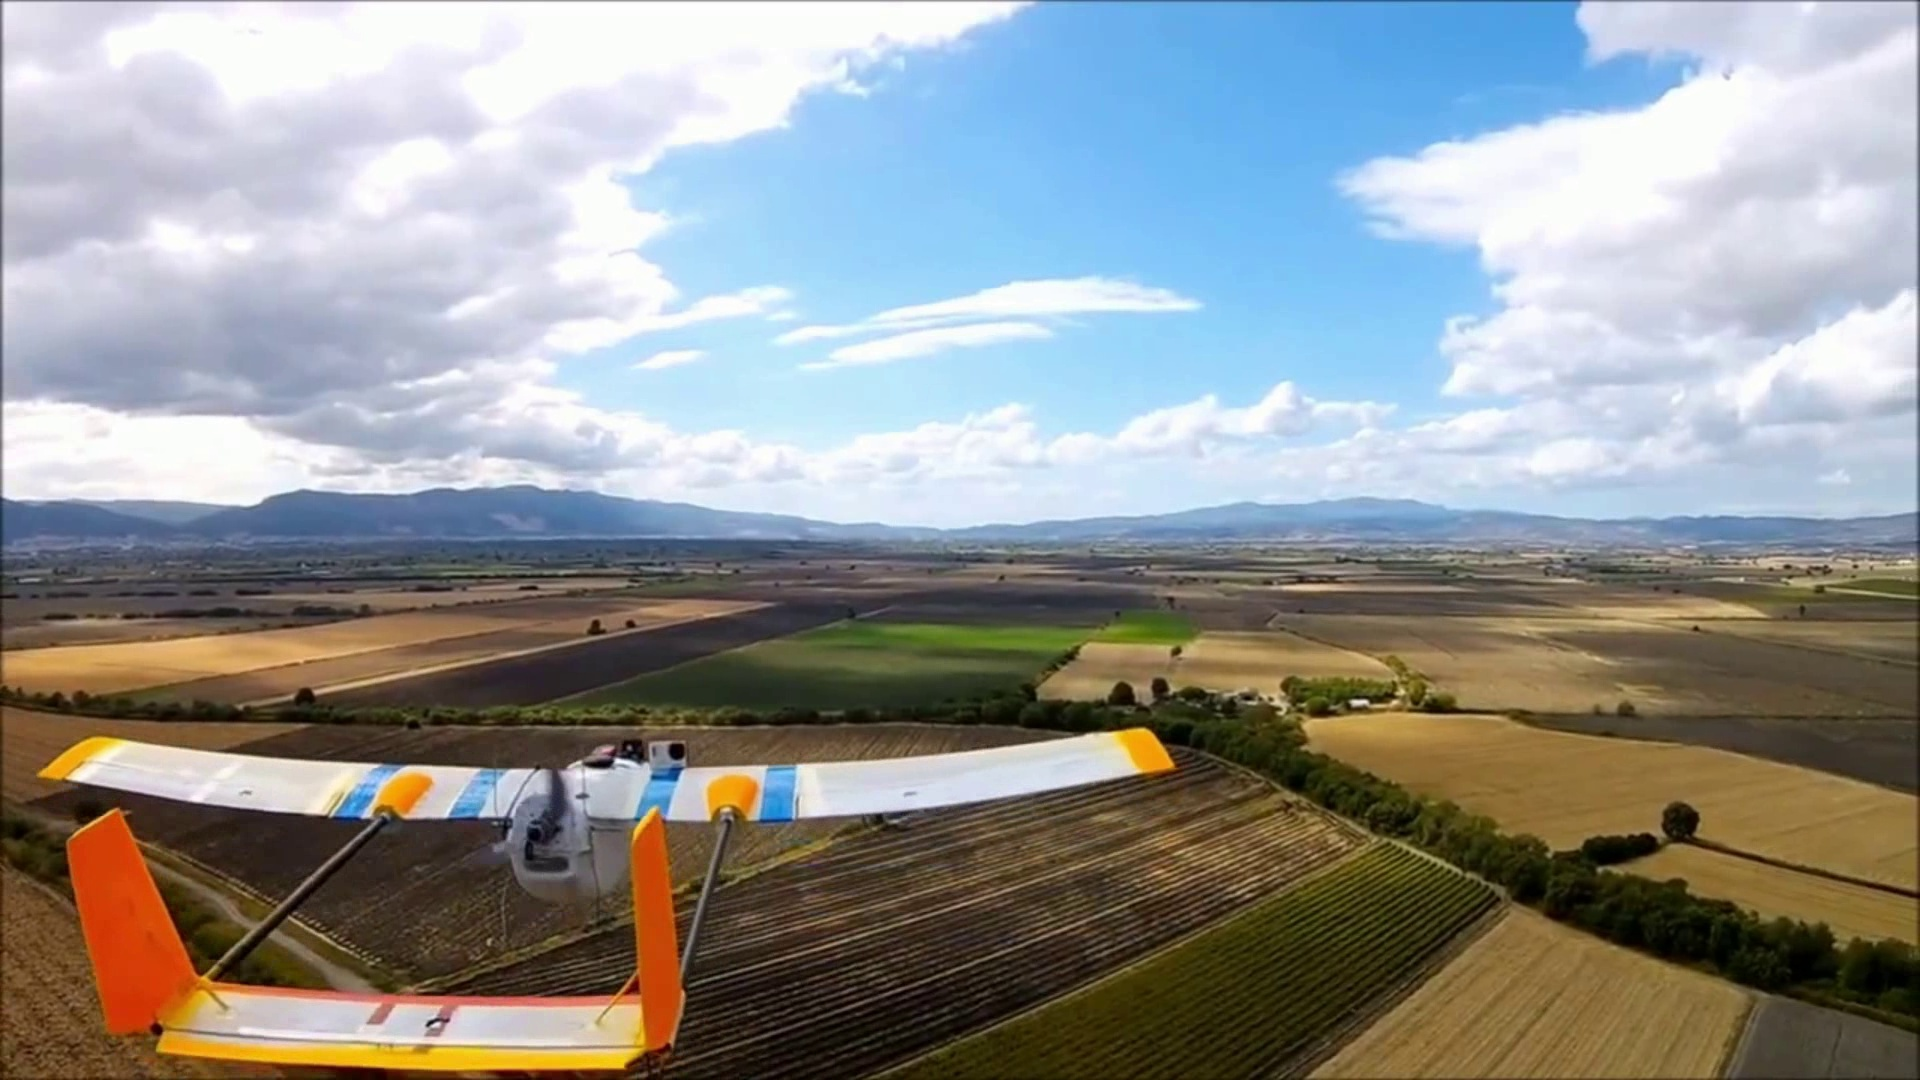airplane: (34, 729, 1179, 1069)
